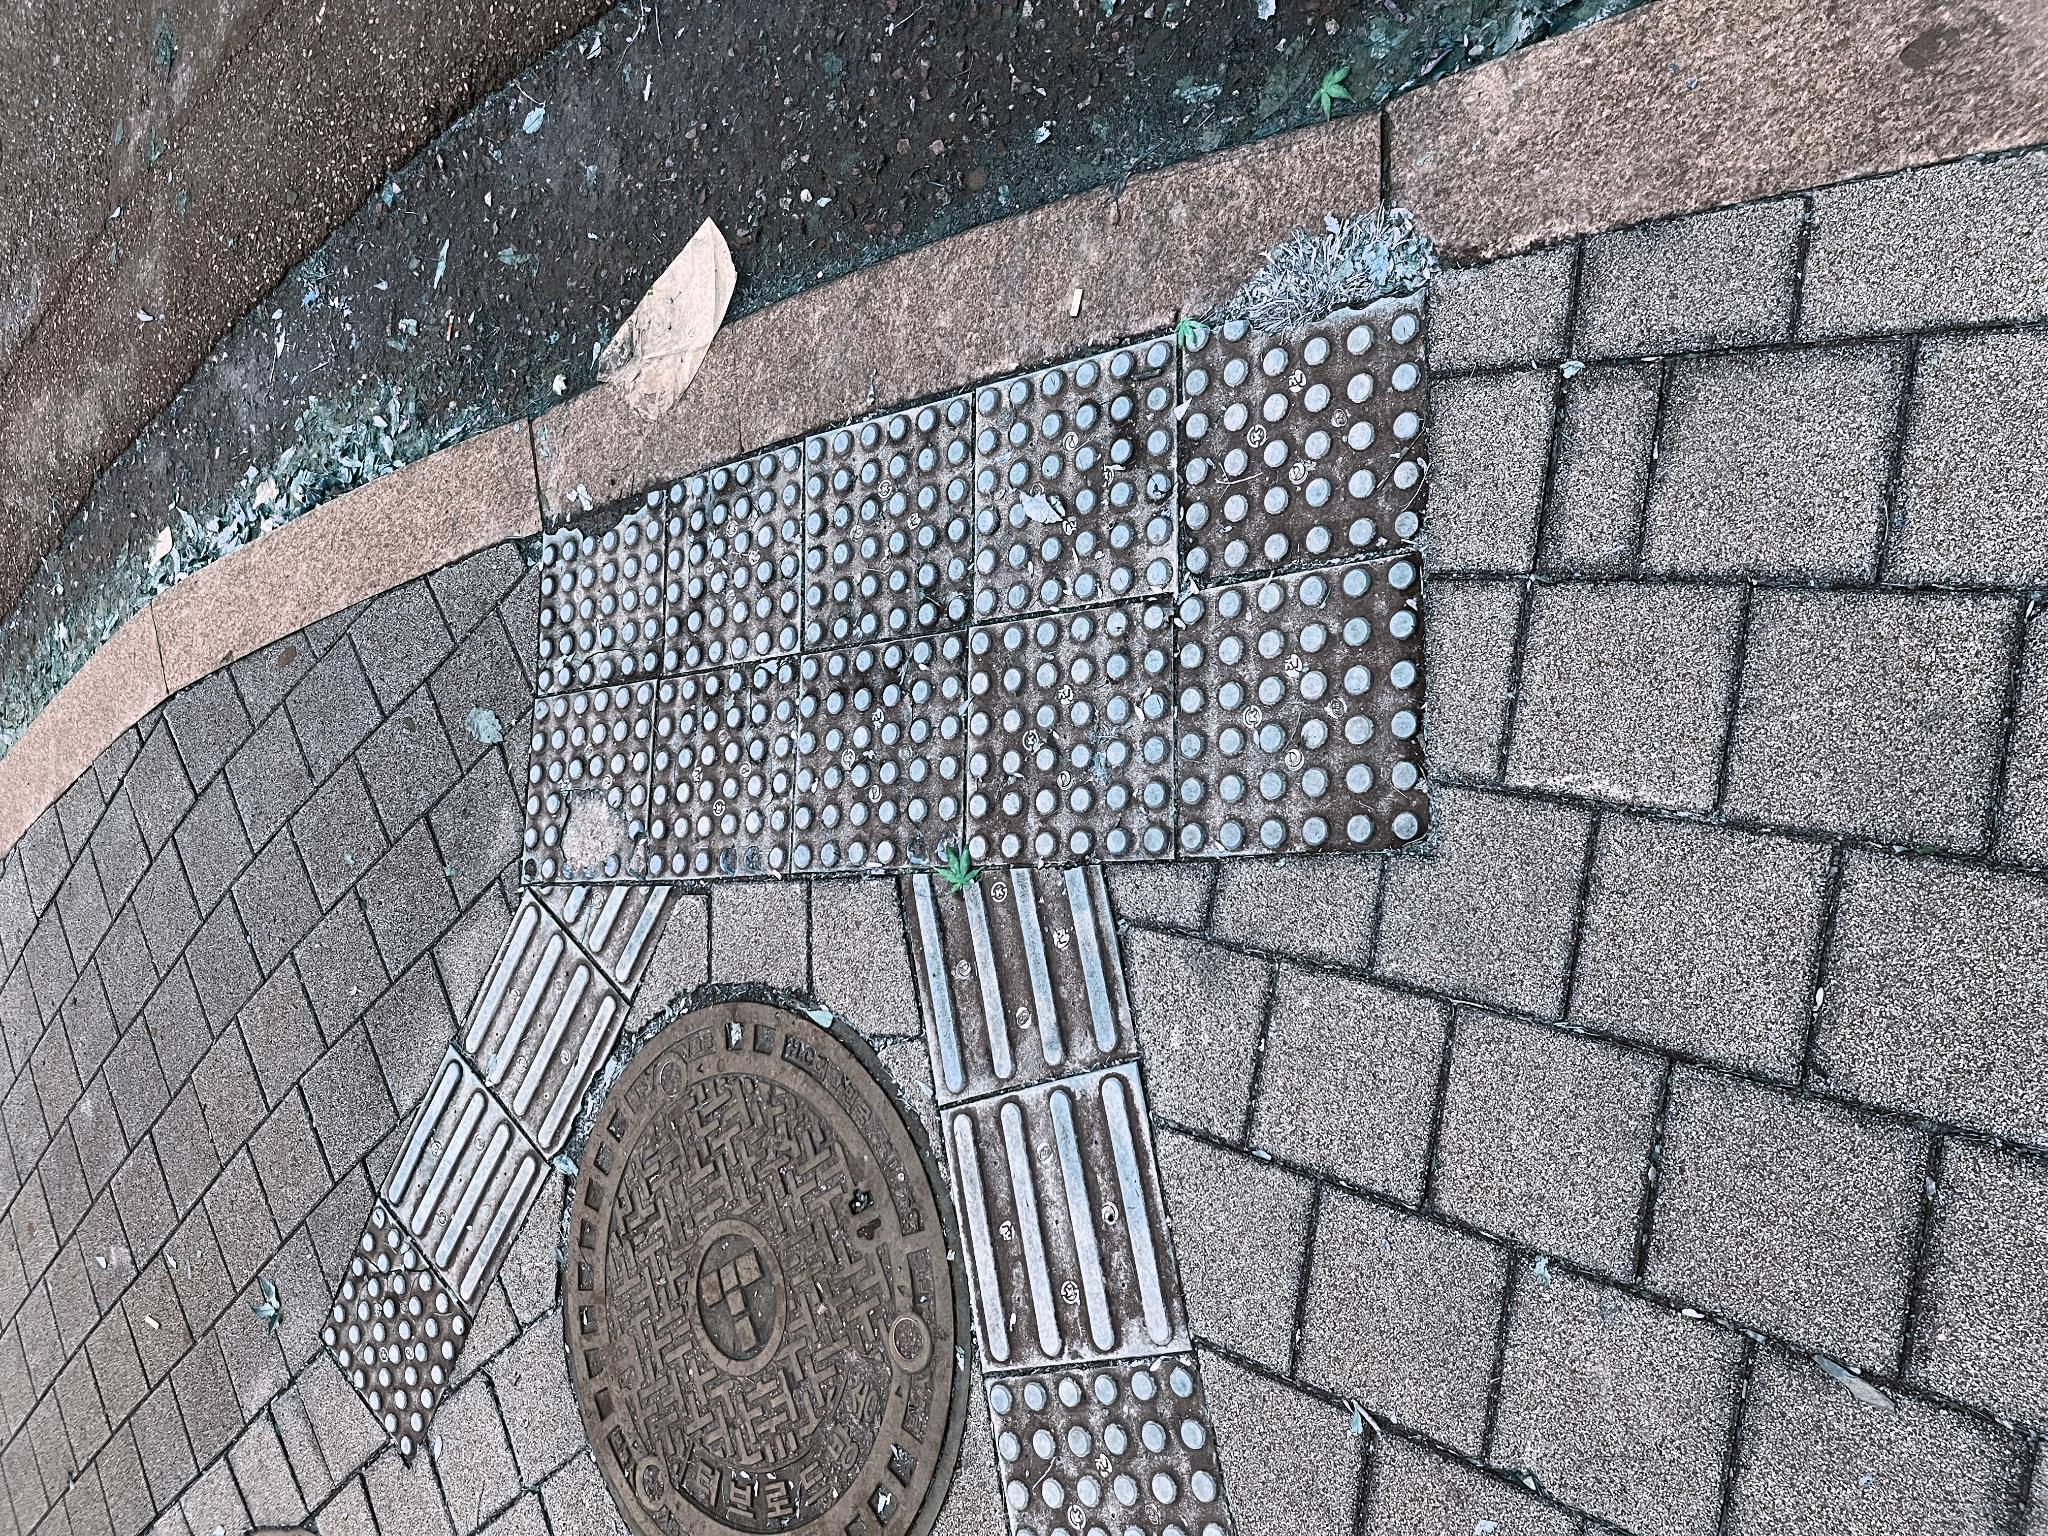Stop block broken: (653, 521, 855, 655), (842, 537, 1050, 665)
Stop block normal: (681, 1178, 982, 1433), (918, 976, 1201, 1175), (674, 968, 935, 1173), (887, 805, 1140, 970), (664, 795, 906, 965), (658, 647, 879, 797), (861, 663, 1093, 802)
Straight block normal: (163, 944, 472, 1187), (379, 457, 643, 626), (221, 381, 489, 547)
